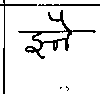ai_matra: (48, 11, 76, 30)
